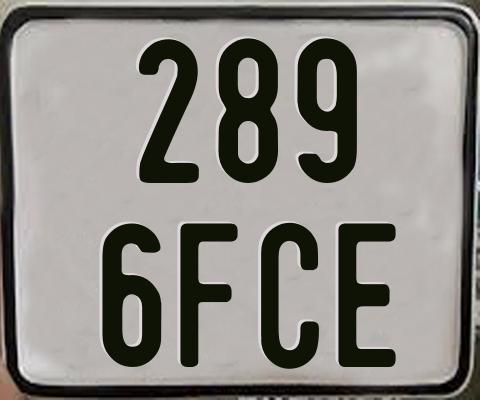2: (136, 38, 200, 185)
6: (101, 221, 162, 371)
8: (218, 37, 278, 188)
9: (295, 35, 361, 183)
C: (260, 222, 318, 373)
E: (338, 222, 401, 370)
F: (180, 220, 242, 364)
